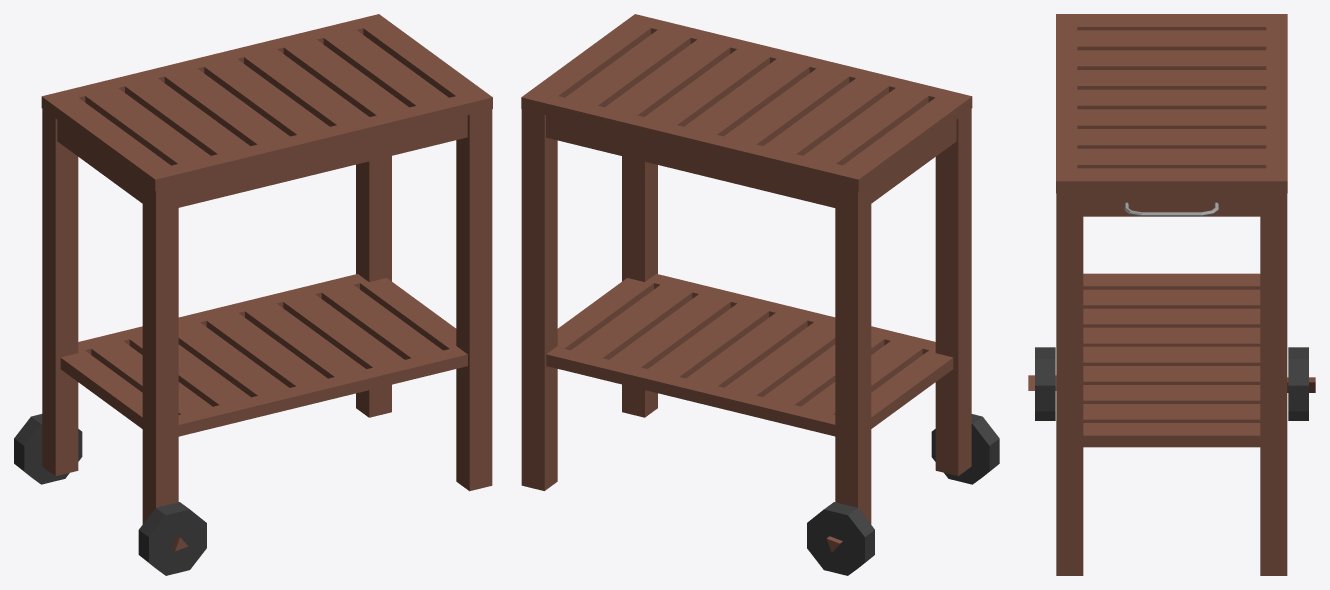
File: Garden_Cart_Brown_vc.fbx
The picture shows the model from 3 angles, left to right: view 1: azimuth 30°, elevation 25°; view 2: azimuth 150°, elevation 25°; view 3: azimuth 270°, elevation 25°; orthographic projection.
Parts seen in each view (by area): view 1: Garden_Cart_Brown_vc; view 2: Garden_Cart_Brown_vc; view 3: Garden_Cart_Brown_vc.
Boxes of the visible parts, x1,y1,x2,y2 form: Garden_Cart_Brown_vc: [14, 14, 492, 575]; Garden_Cart_Brown_vc: [521, 14, 999, 575]; Garden_Cart_Brown_vc: [1028, 14, 1315, 575].
Size of the model in its own units: 278 by 276 by 182.
